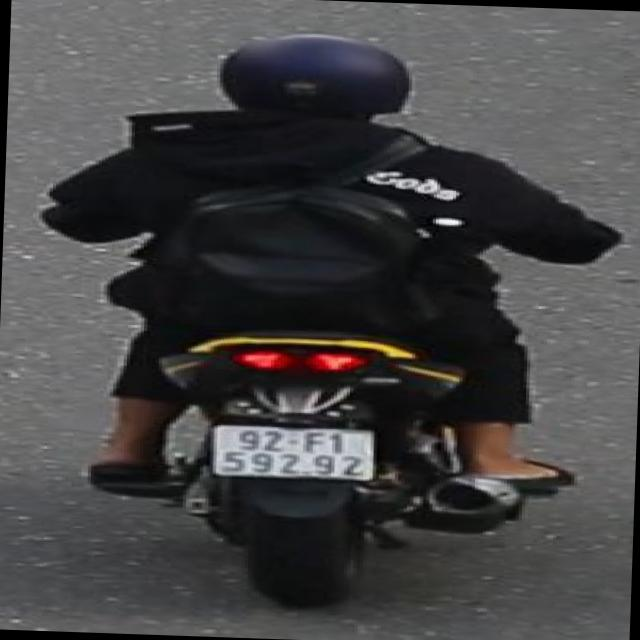LP: (206, 418, 380, 483)
helmet: (204, 28, 418, 130)
